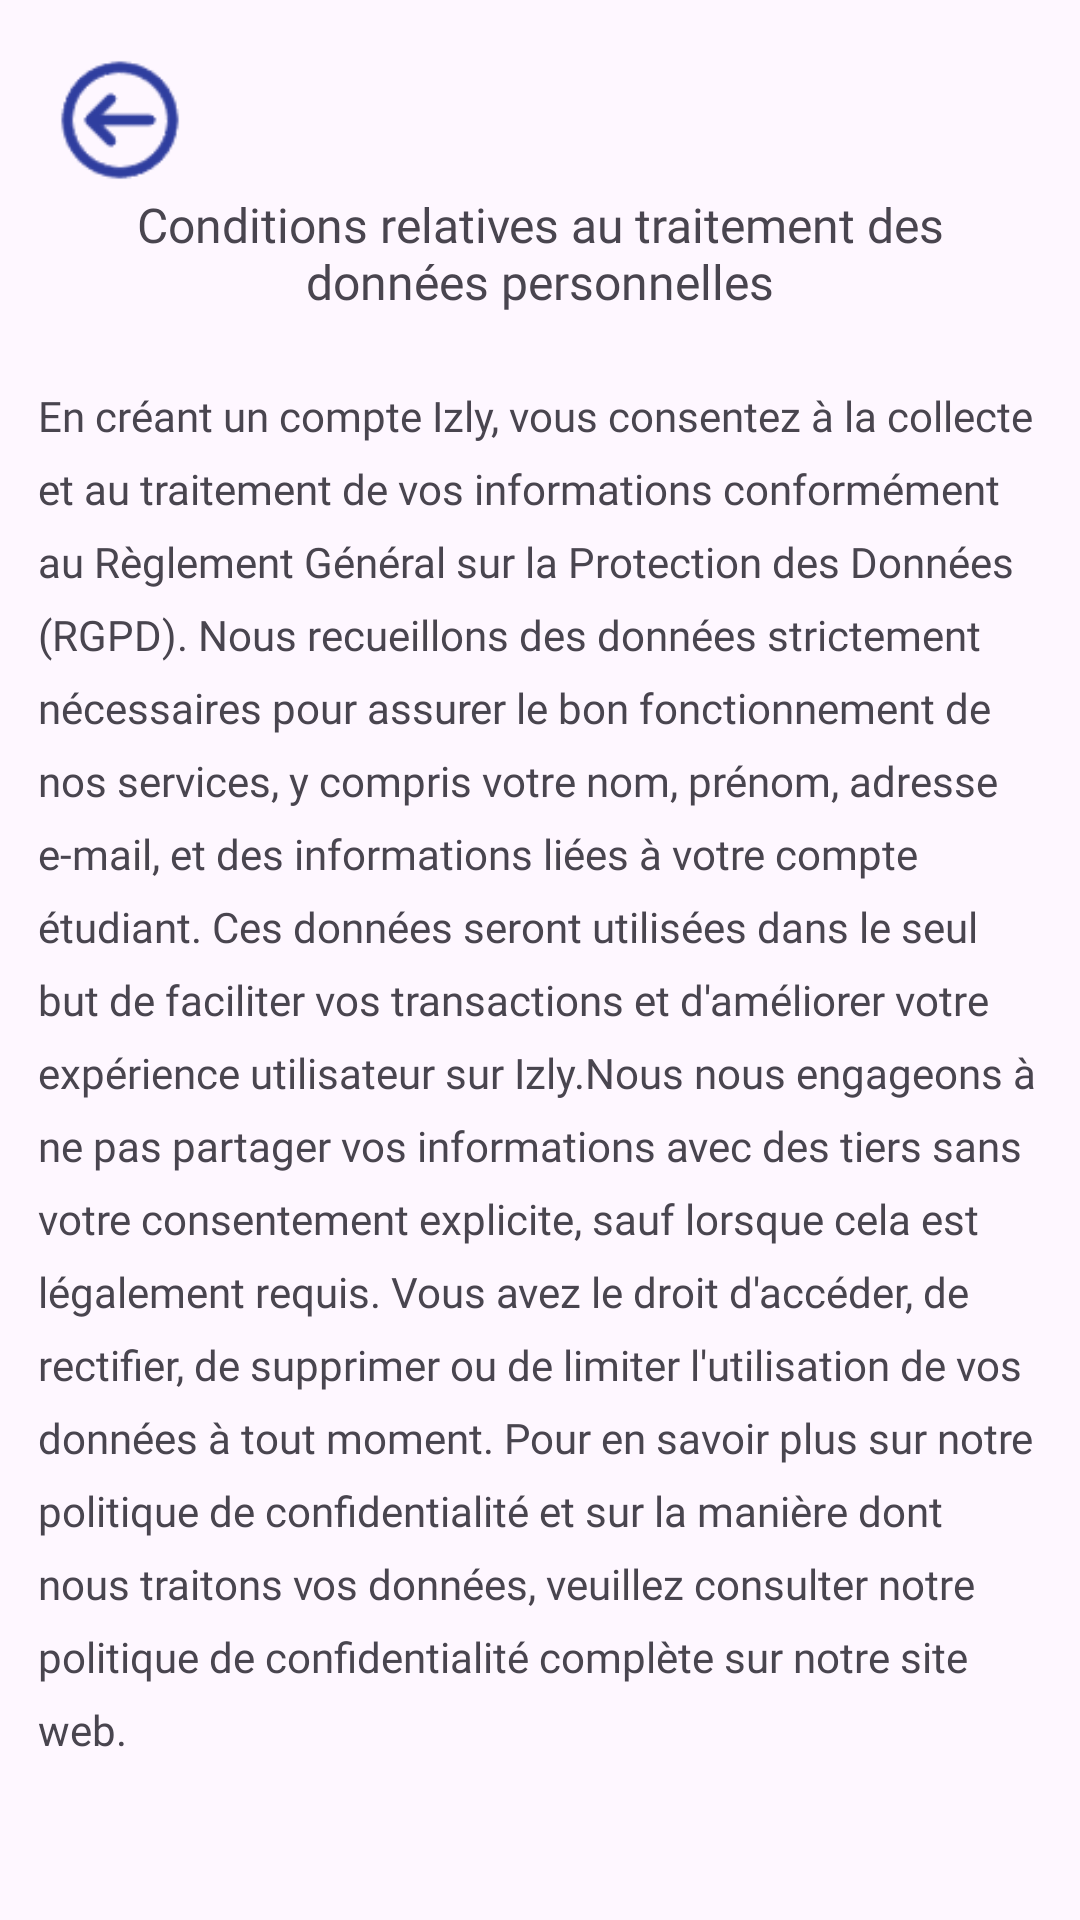

Locate icon controls on the screen. Image size 1080 × 1920, boxes as box(x1, y1, x2, y2).
fleche retour: box(61, 61, 179, 179)
